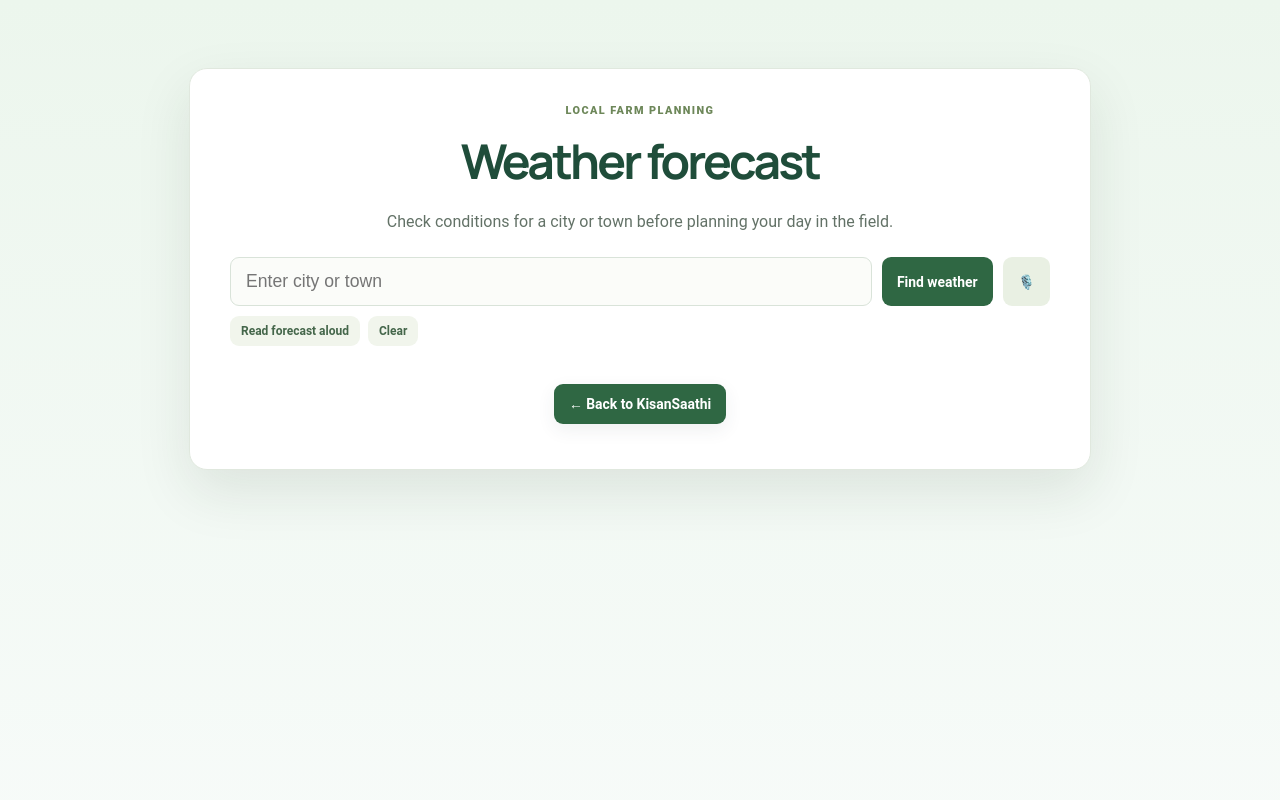
shows a clear message when the city is not found
The image size is (1280, 800).
Type "Nowhere" into the field with placeholder "Enter city or town" at (551, 282), box [230,257,872,306]
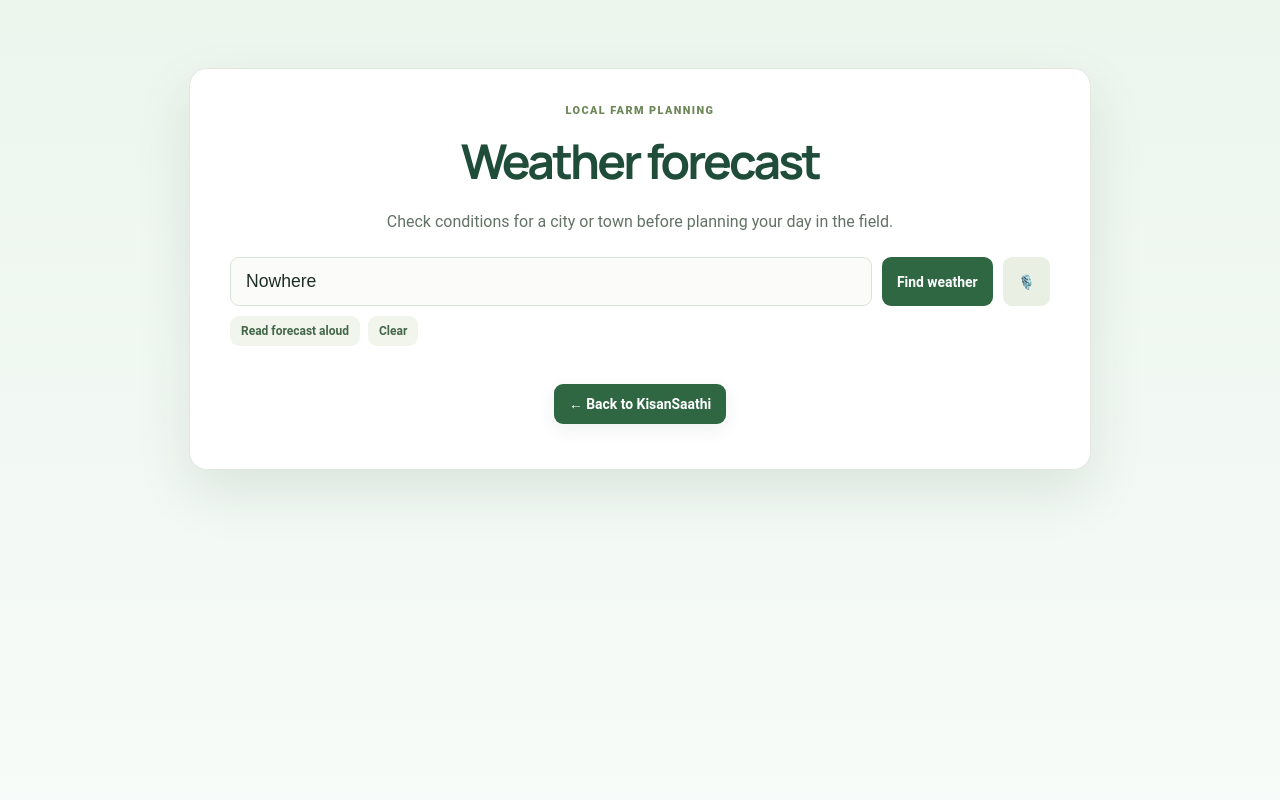
Click the button "Find weather" at (937, 282), box [882,257,993,306]
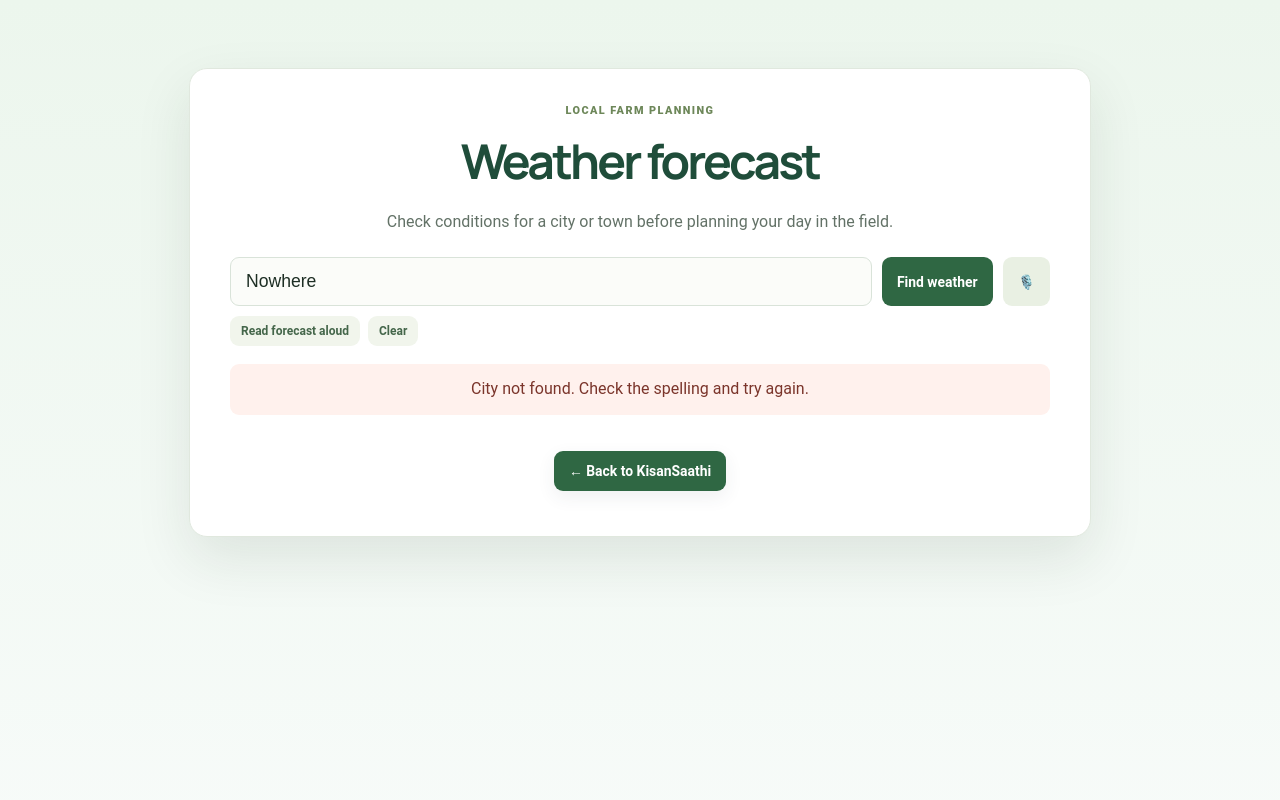
Check: the message shows "City not found", box [471,379,809,398]
